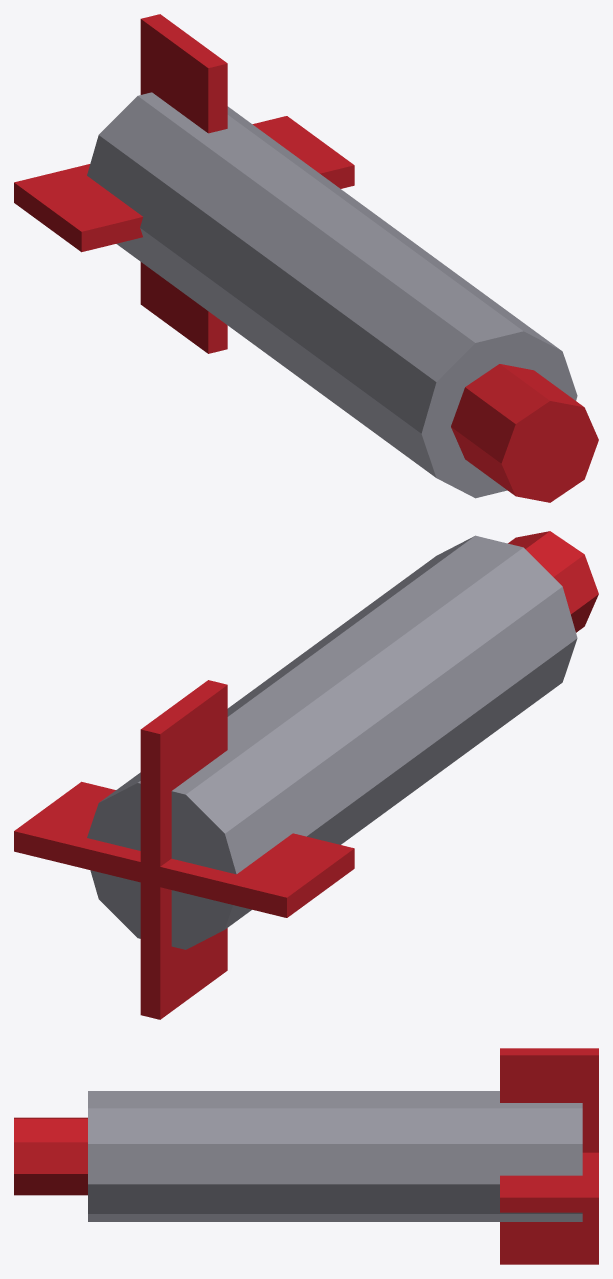
Rendered from ExampleRocket.fbx.
The picture shows the model from 3 angles, top to bottom: view 1: azimuth 30°, elevation 25°; view 2: azimuth 150°, elevation 25°; view 3: azimuth 270°, elevation 25°; orthographic projection. The views are drawn at different scales.
Visible parts, largest first — view 1: ExampleRocket; view 2: ExampleRocket; view 3: ExampleRocket.
Boxes of the visible parts, x1,y1,x2,y2 form: ExampleRocket: [14, 14, 598, 502]; ExampleRocket: [14, 531, 598, 1019]; ExampleRocket: [14, 1048, 598, 1264].
Size of the model in its own units: 0.14 by 0.14 by 0.355.
1 material, 1 textured.
